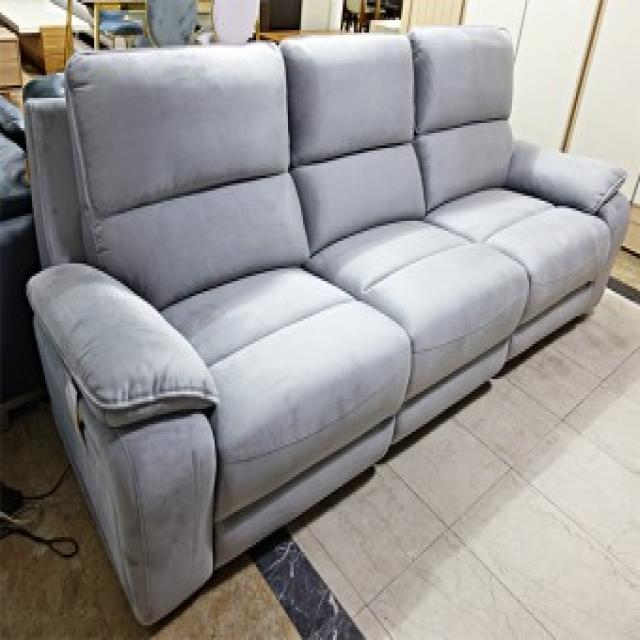Sofa: (20, 26, 631, 588)
